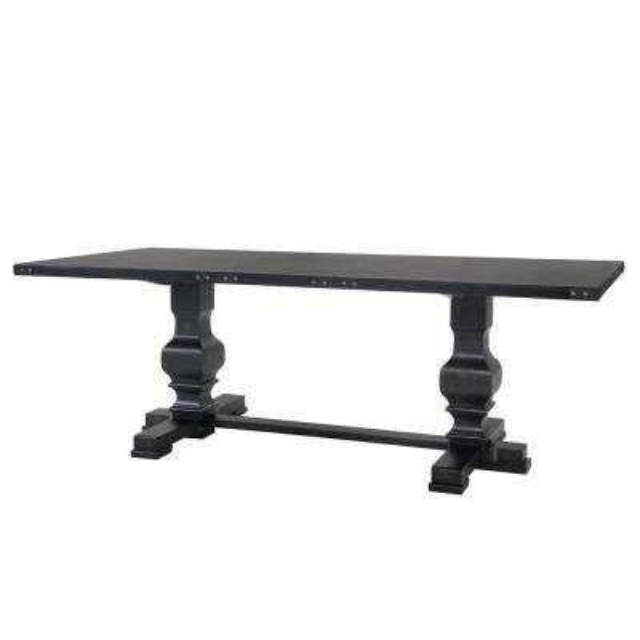obstacle: (13, 248, 622, 491)
